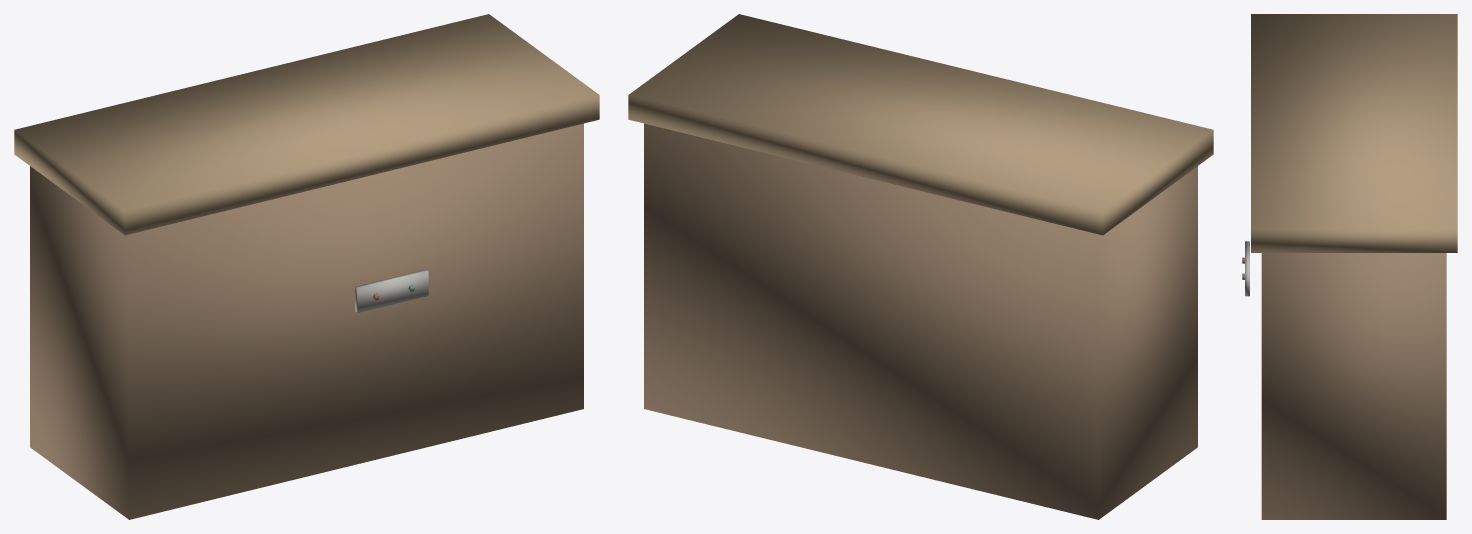
Rendered from bank_teller_counter__tall.glb.
3 views of the same model, side by side, from view 1: azimuth 30°, elevation 25°; view 2: azimuth 150°, elevation 25°; view 3: azimuth 270°, elevation 25° (orthographic). The views are drawn at different scales.
Parts seen in each view (by area): view 1: world; view 2: world; view 3: world.
Boxes of the visible parts, x1=… form: world: x1=14, y1=14, x2=599, y2=519; world: x1=628, y1=14, x2=1213, y2=519; world: x1=1242, y1=14, x2=1457, y2=519.
Bounding box in the file's own units: 1.88 × 1.19 × 0.791.
